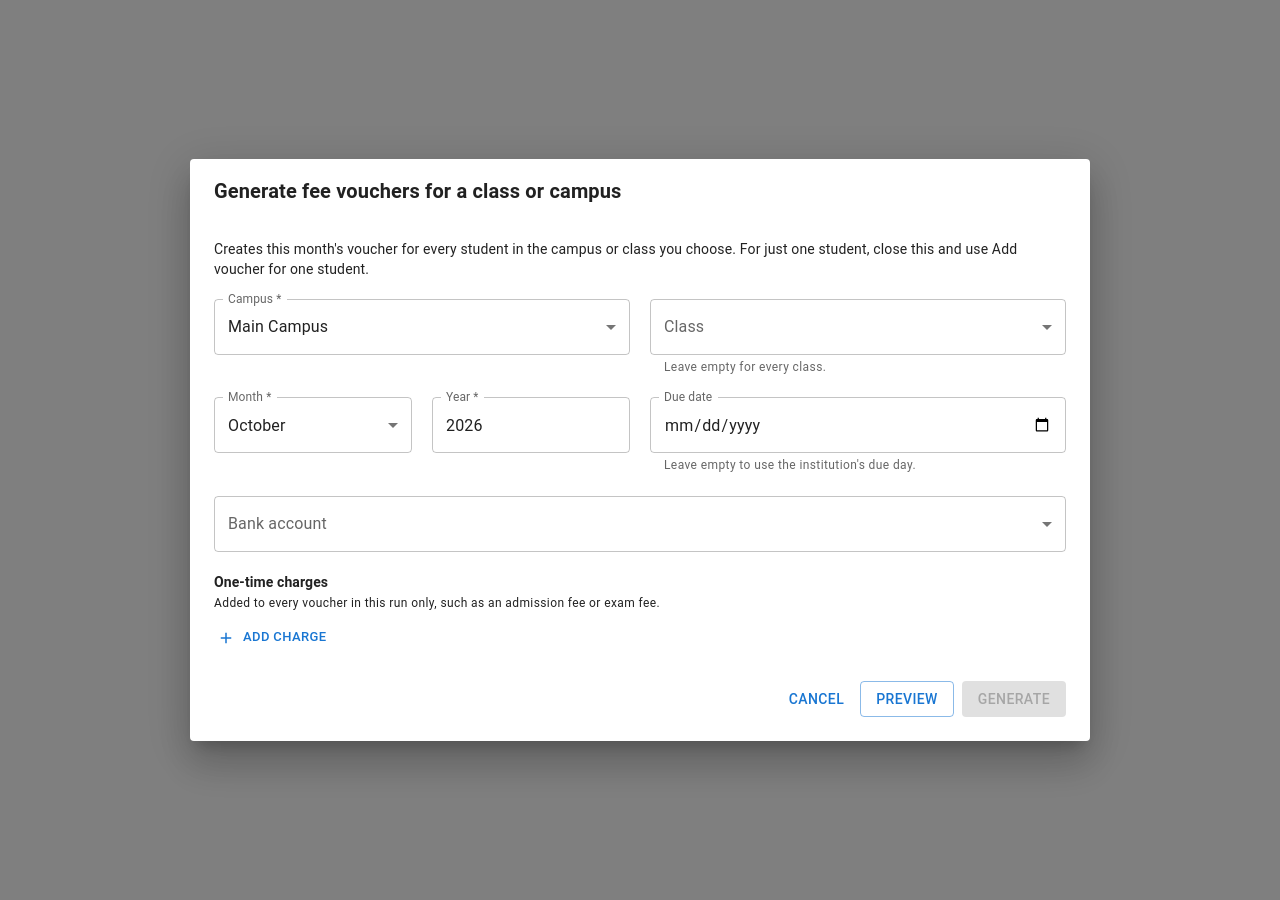
Test: GenerateVouchersDialog › generates only after a preview, then shows the report and reloads the list
Click the button "Preview" at point(907, 699), box [860,681,954,718]
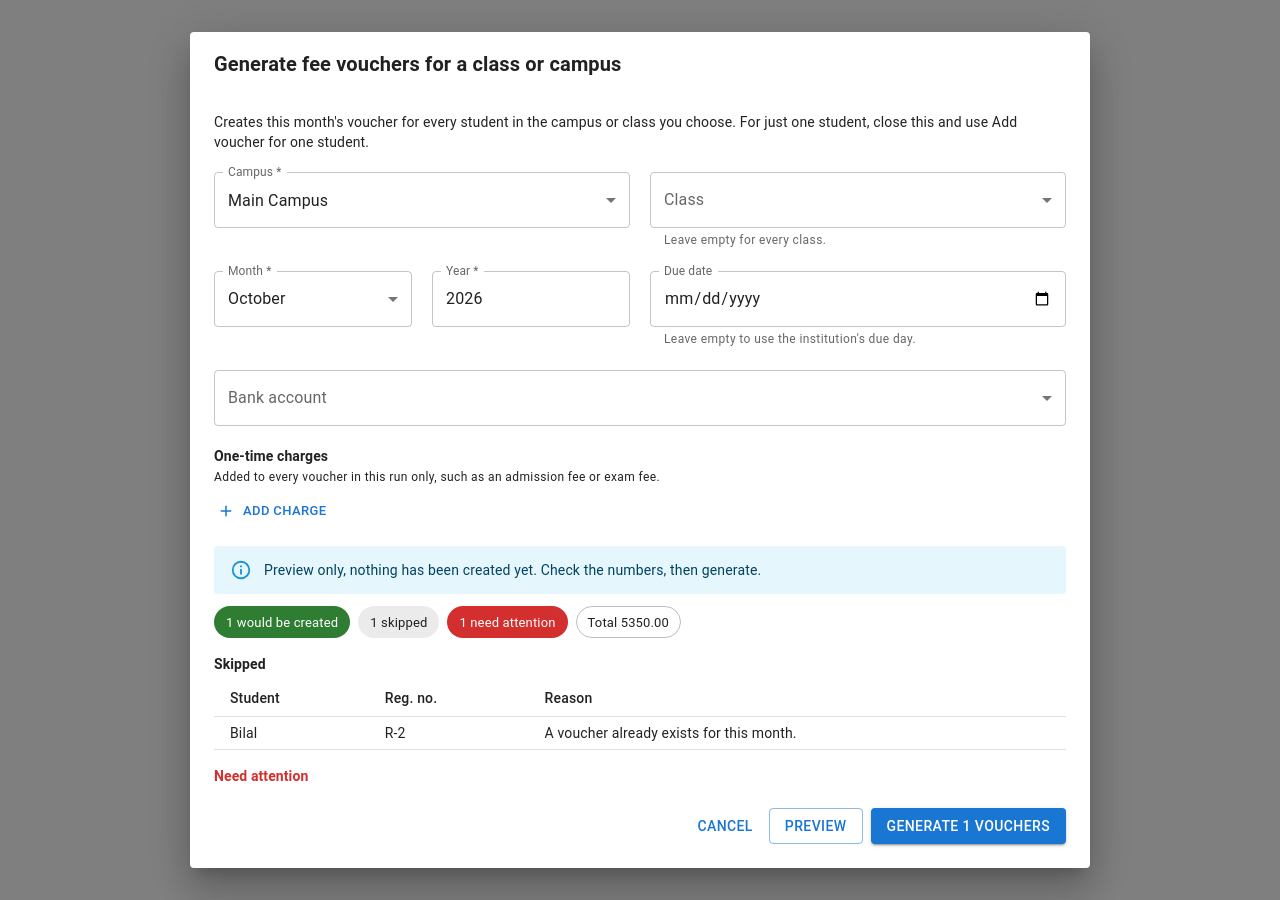
Click the button "Generate 1 vouchers" at point(968, 826), box [870,808,1066,844]
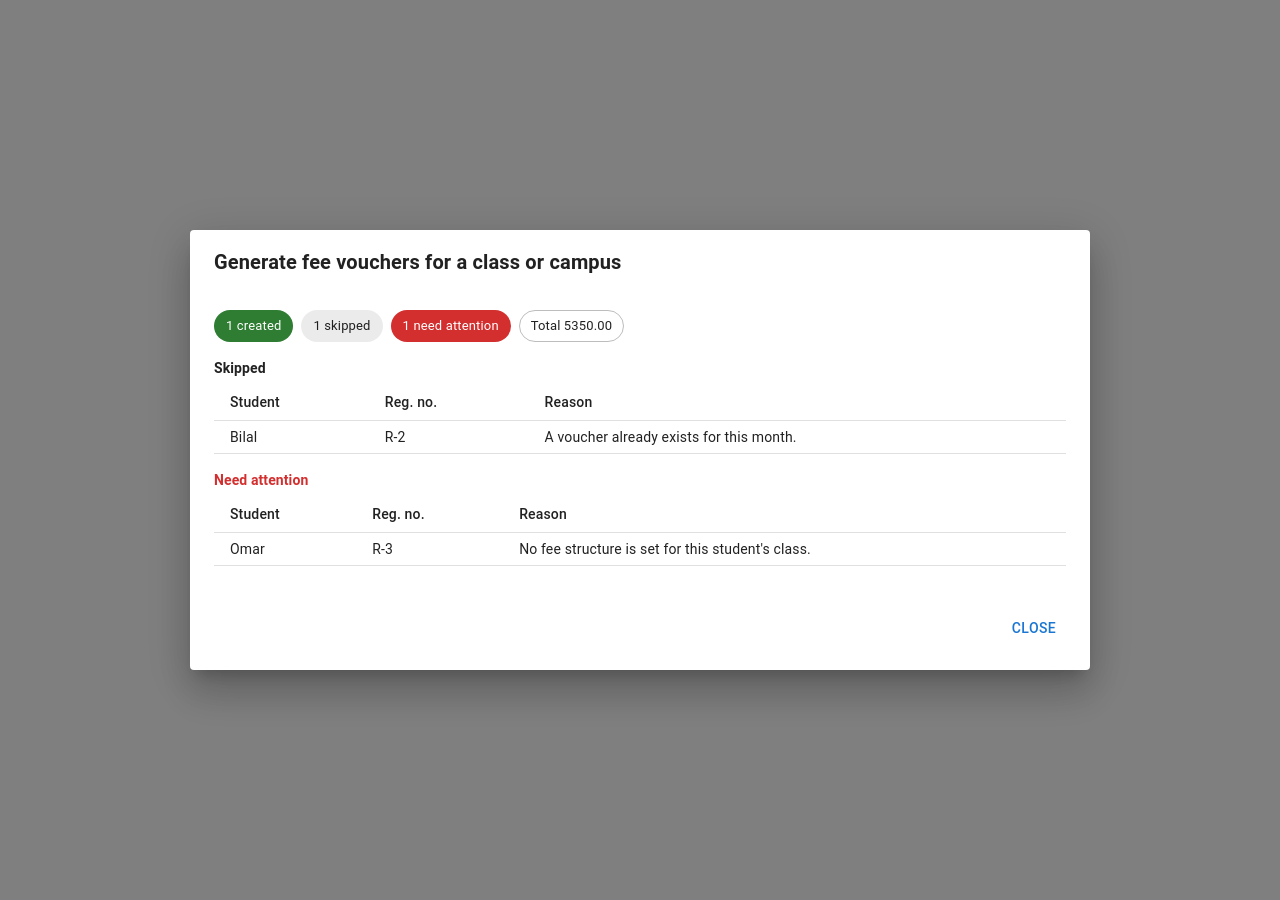
Check: the text "1 created" is shown, box [226,318,281,333]
Check: the button "Close" is shown, box [1002,610,1066,646]
Check: the text "Preview" is gone
